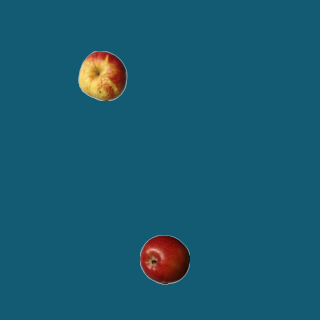Apple Braeburn: (139, 234, 189, 284)
Apple Red Yellow 1: (77, 50, 127, 100)
